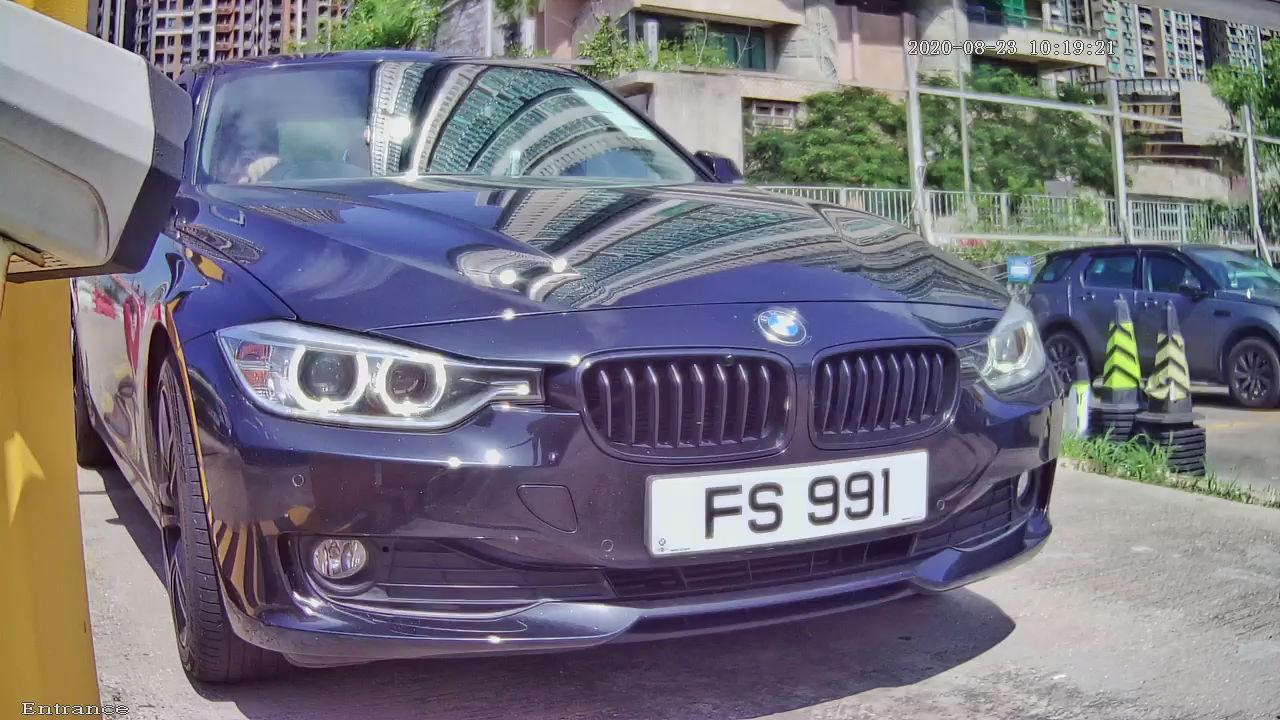Car: (35, 13, 1143, 714)
License Plate: (625, 413, 950, 584)
